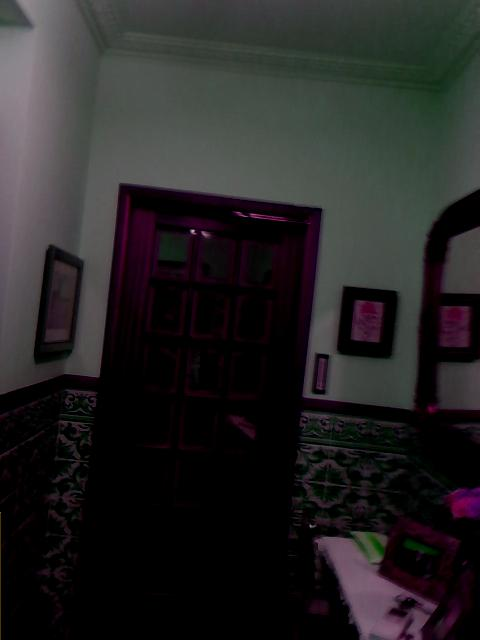closed_door: (71, 183, 320, 638)
